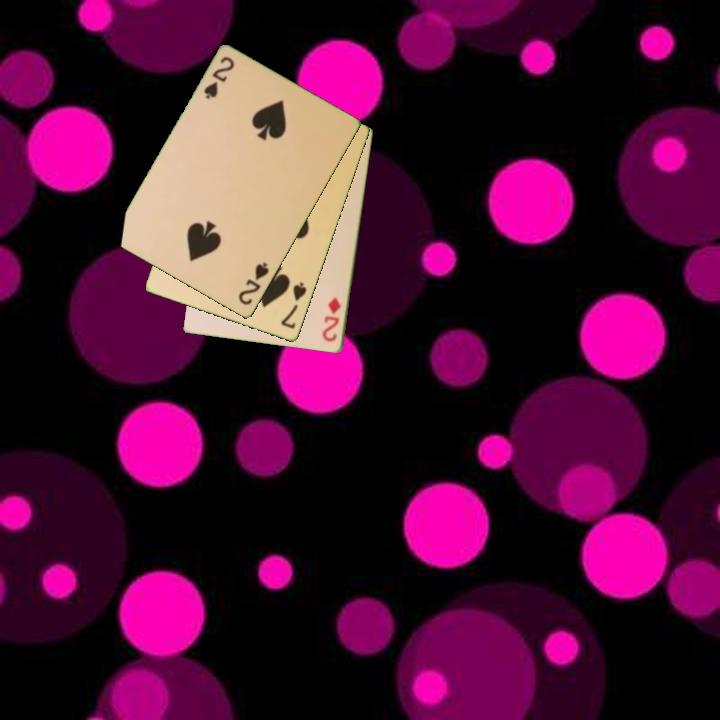2d: (319, 294, 344, 345)
2s: (200, 53, 237, 103), (235, 259, 272, 308)
7s: (278, 279, 310, 332)
